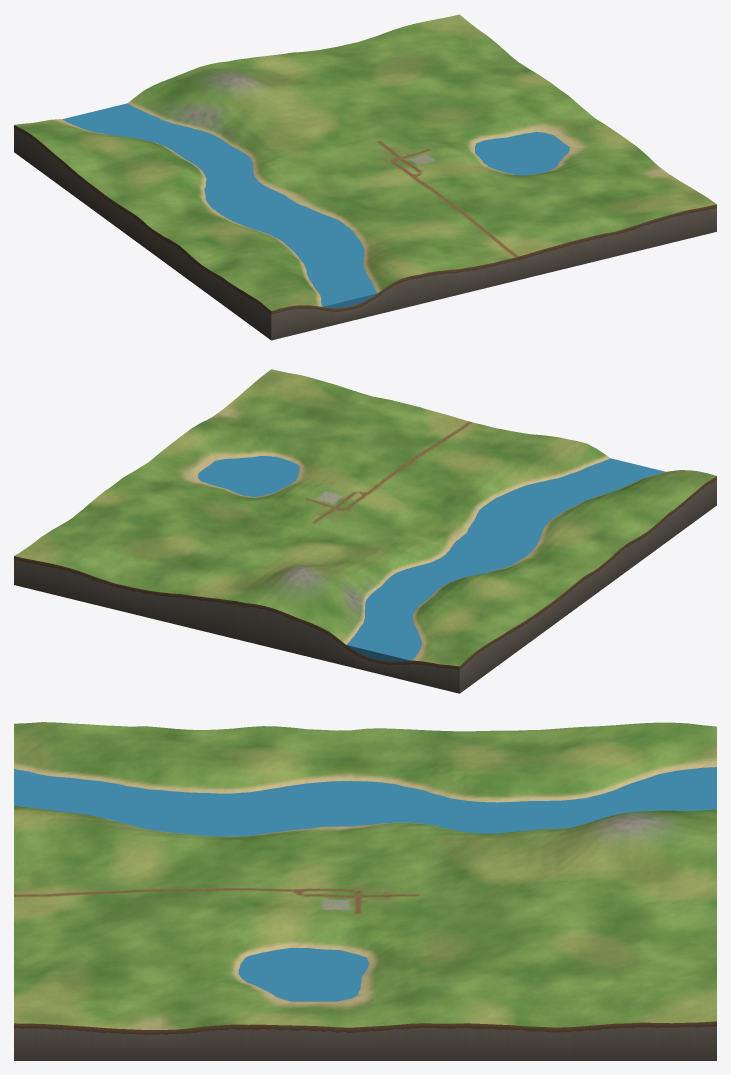
File: gentle-spring.glb
3 renders of one model, top to bottom at view 1: azimuth 30°, elevation 25°; view 2: azimuth 150°, elevation 25°; view 3: azimuth 270°, elevation 25°, orthographic. The views are drawn at different scales.
Parts seen in each view (by area): view 1: Terrain_Surface, Terrain_Sides, Water_Surface; view 2: Terrain_Surface, Terrain_Sides, Water_Surface; view 3: Terrain_Surface, Water_Surface, Terrain_Sides.
Boxes of the visible parts, x1=… form: Terrain_Surface: x1=14, y1=14, x2=716, y2=310; Terrain_Sides: x1=14, y1=125, x2=716, y2=340; Water_Surface: x1=62, y1=103, x2=569, y2=306; Terrain_Surface: x1=14, y1=369, x2=716, y2=666; Terrain_Sides: x1=14, y1=476, x2=716, y2=693; Water_Surface: x1=198, y1=456, x2=665, y2=660; Terrain_Surface: x1=14, y1=722, x2=716, y2=1029; Water_Surface: x1=14, y1=767, x2=716, y2=1001; Terrain_Sides: x1=14, y1=1021, x2=716, y2=1060.
Size of the model in its own units: 48 by 5.24 by 48.
